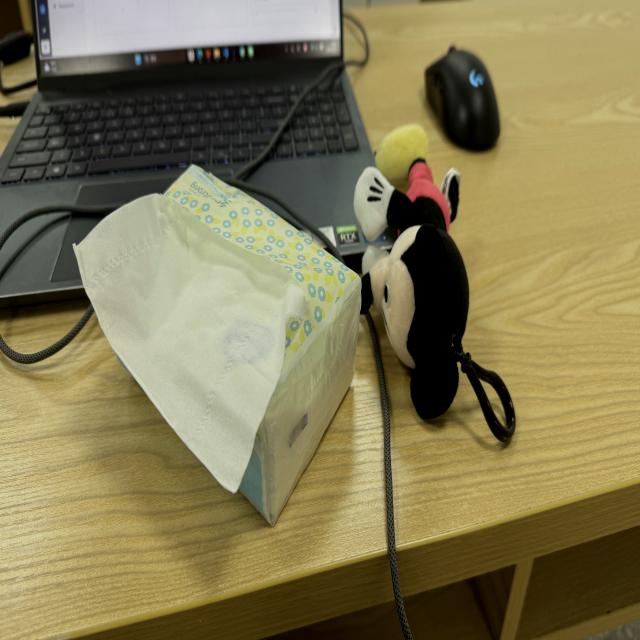mickey: (354, 126, 468, 418)
tissue: (75, 167, 360, 524)
